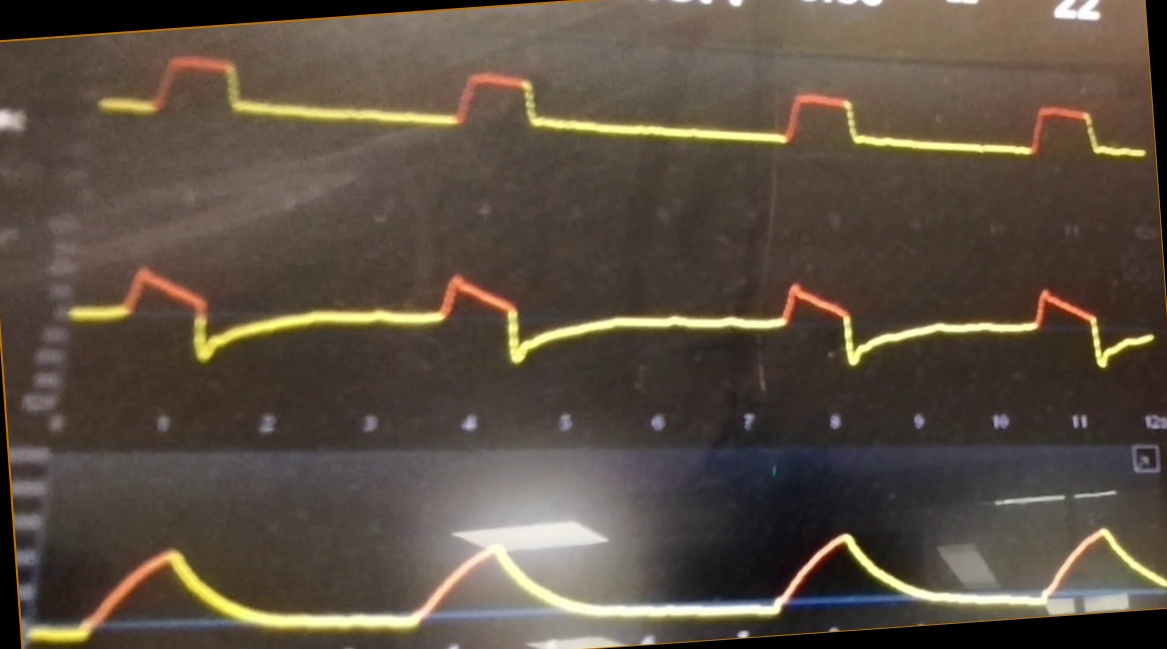Normal Flow: (73, 264, 1150, 375)
Normal Volume: (29, 514, 1167, 641)
